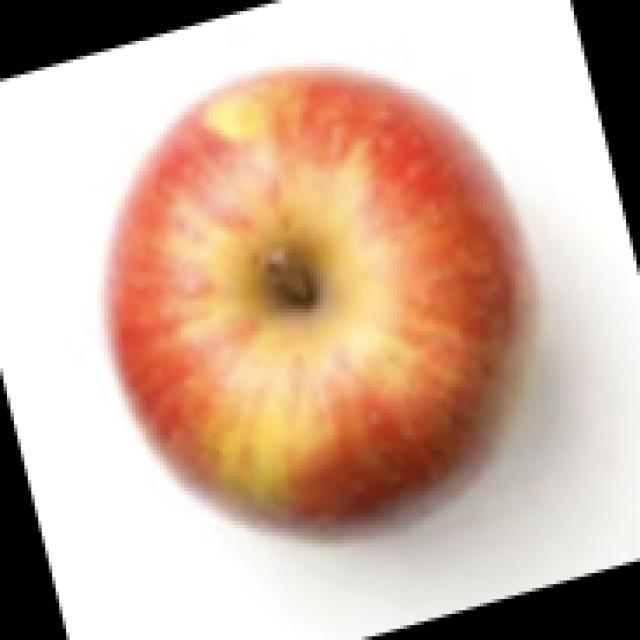Fresh Apple: (102, 65, 548, 555)
